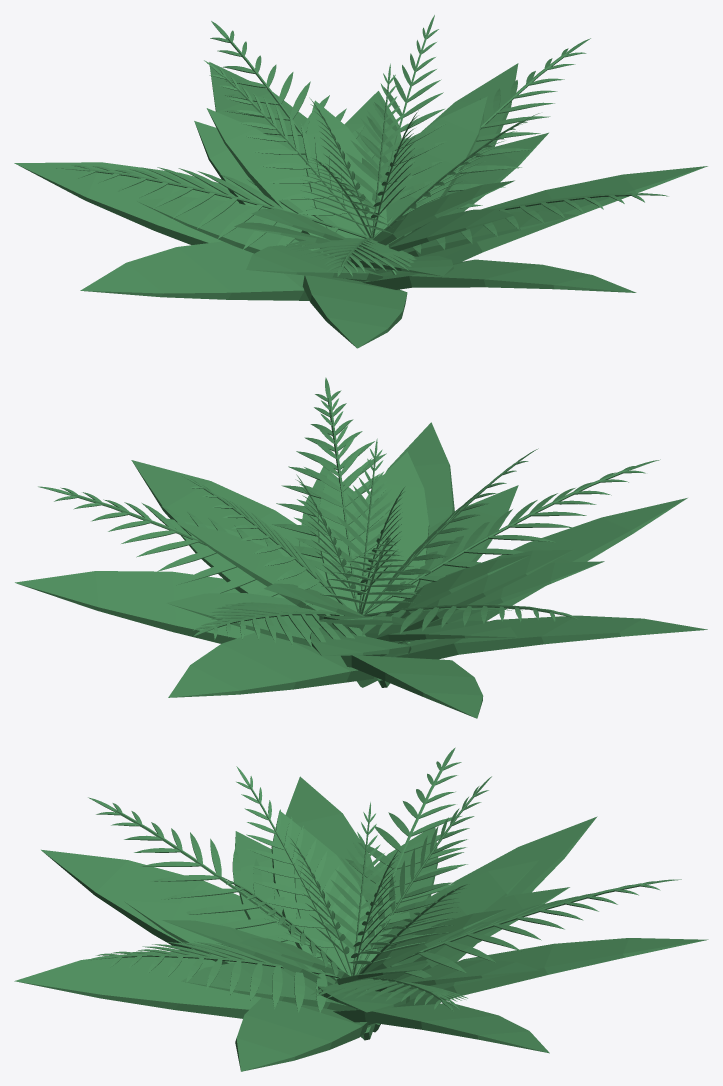
File: Farn dunkelgrün 3.fbx
The picture shows the model from 3 angles, top to bottom: view 1: azimuth 30°, elevation 25°; view 2: azimuth 150°, elevation 25°; view 3: azimuth 270°, elevation 25°; orthographic projection.
Parts seen in each view (by area): view 1: Farn_dunkelgrün_3; view 2: Farn_dunkelgrün_3; view 3: Farn_dunkelgrün_3.
Part boxes in pixels (bbox=[...]): Farn_dunkelgrün_3: bbox=[14, 15, 707, 348]; Farn_dunkelgrün_3: bbox=[15, 377, 707, 718]; Farn_dunkelgrün_3: bbox=[14, 747, 708, 1071].
Bounding box in the file's own units: 562 × 190 × 558.
